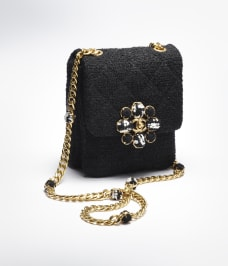channel: (47, 32, 195, 184), (45, 170, 152, 230)
